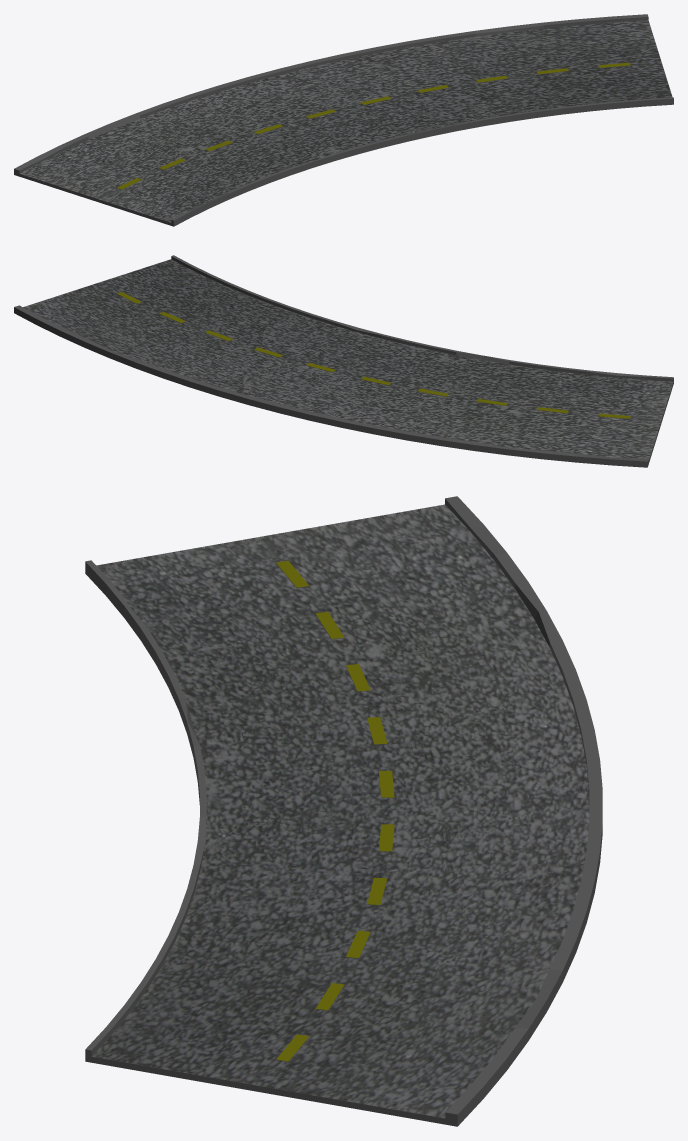
The model's file is KaarreVasemmalle.fbx.
The picture shows the model from 3 angles, top to bottom: view 1: azimuth 30°, elevation 25°; view 2: azimuth 150°, elevation 25°; view 3: azimuth 270°, elevation 25°; orthographic projection. The views are drawn at different scales.
Visible parts, largest first — view 1: tie.005; view 2: tie.005; view 3: tie.005.
Boxes of the visible parts, box(x1,y1,x2,y2) form: tie.005: box(14, 14, 673, 226); tie.005: box(14, 255, 673, 467); tie.005: box(85, 496, 602, 1126).
Size of the model in its own units: 2179 by 21.03 by 771.
